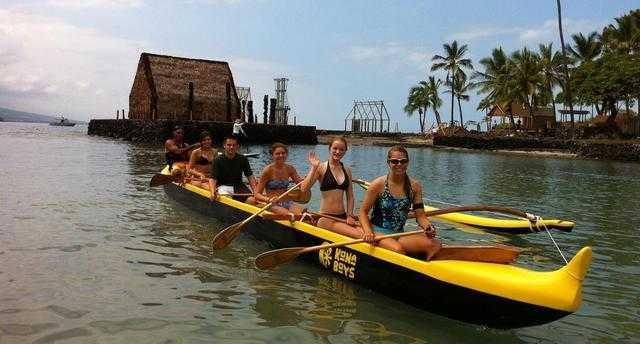kayak: (152, 166, 592, 321)
